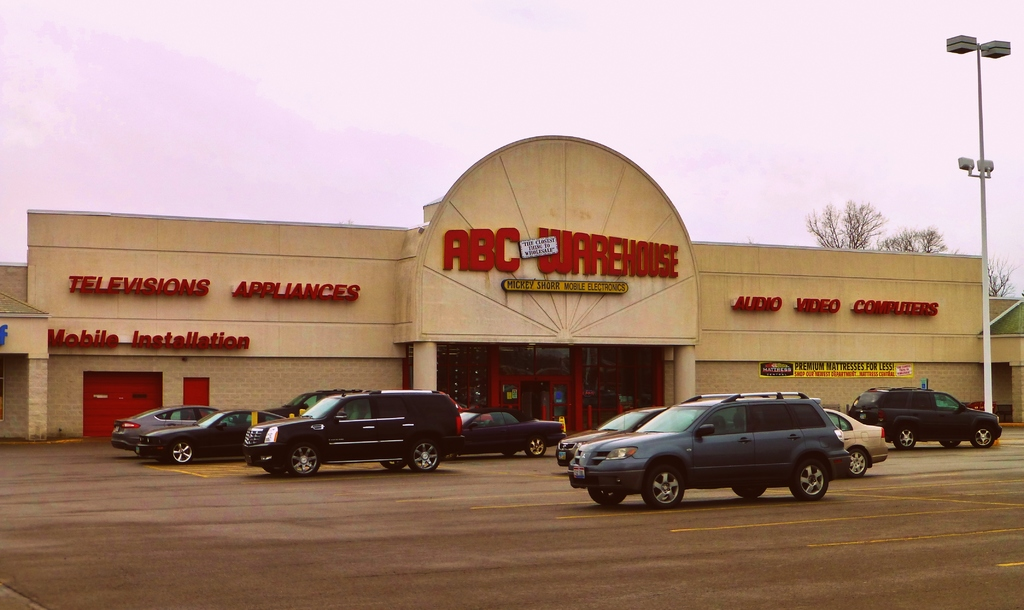Car: (551, 396, 872, 510), (242, 394, 461, 471), (848, 382, 1004, 446), (126, 405, 281, 464), (105, 398, 226, 454), (554, 405, 663, 464), (449, 405, 557, 458), (823, 405, 887, 479), (261, 387, 362, 424)
